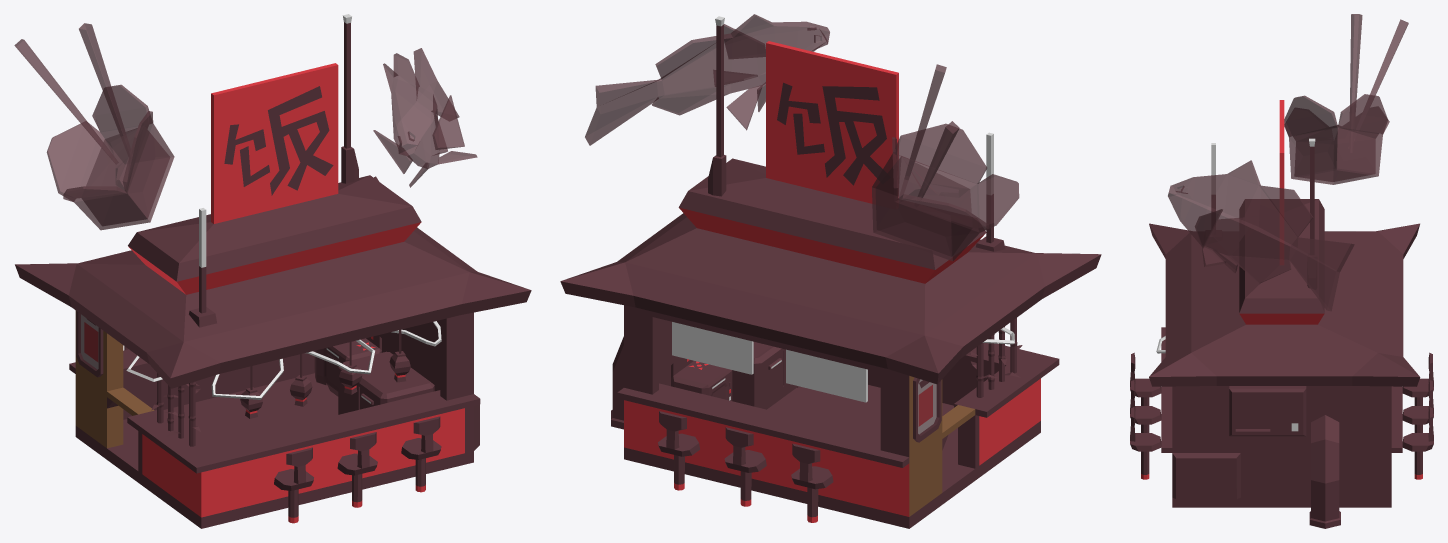
The model's file is scifi-food-stall.fbx.
The picture shows the model from 3 angles, left to right: view 1: azimuth 30°, elevation 25°; view 2: azimuth 150°, elevation 25°; view 3: azimuth 270°, elevation 25°; orthographic projection. The views are drawn at different scales.
Visible parts, largest first — view 1: scifi-food-stall; view 2: scifi-food-stall; view 3: scifi-food-stall.
Boxes of the visible parts, x1,y1,x2,y2 form: scifi-food-stall: [14, 14, 531, 528]; scifi-food-stall: [560, 14, 1101, 528]; scifi-food-stall: [1130, 14, 1433, 528].
Size of the model in its own units: 7.41 by 7.53 by 5.54.
